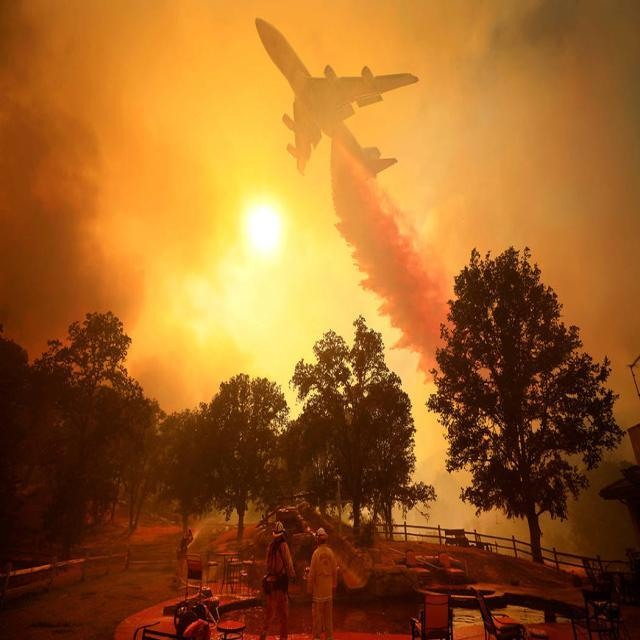Smoke: (23, 0, 640, 364)
